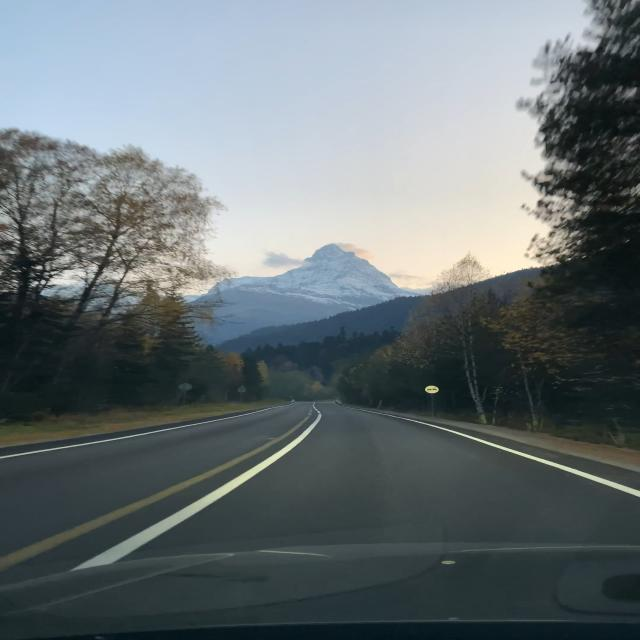asphalt: (0, 402, 640, 584)
grass: (392, 411, 640, 472), (0, 400, 287, 448)
